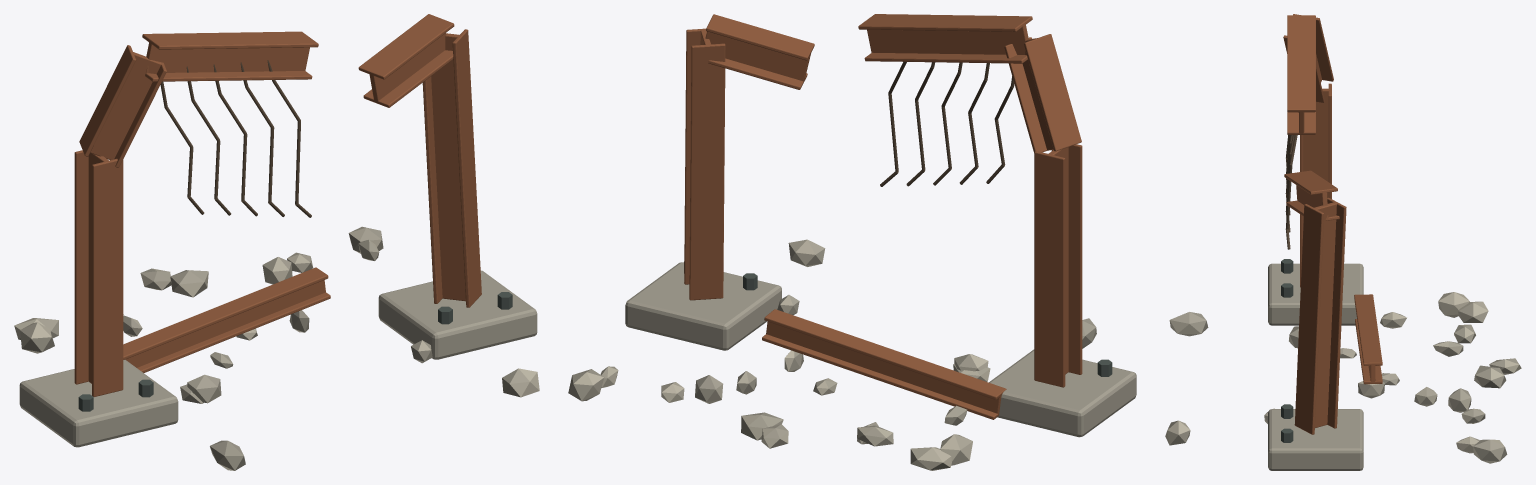
Rendered from Frame_Twisted_Cables.glb.
3 renders of one model, left to right at view 1: azimuth 30°, elevation 25°; view 2: azimuth 150°, elevation 25°; view 3: azimuth 270°, elevation 25°, orthographic. The views are drawn at different scales.
Visible parts, largest first — view 1: Anchor pad, Anchor pad.001, Left upright.002, Right upright, Right upright.002, Collapsed cross member, Left upright.001, Fallen diagonal.002, Collapsed cross member.002, Buckled left upper, Fallen diagonal, Broken right member.002 (+16 smaller); view 2: Right upright.001, Anchor pad.001, Left upright.001, Anchor pad, Collapsed cross member, Fallen diagonal.002, Left upright.002, Buckled left upper.002, Fallen diagonal, Collapsed cross member.002, Broken right member, Broken right member.002 (+14 smaller); view 3: Anchor pad.001, Right upright.002, Right upright, Anchor pad, Collapsed cross member.002, Right upright.001, Left upright, Fallen diagonal.002, Broken right member.002, Broken concrete aggregate.003, Buckled left upper.002, Broken concrete aggregate.017 (+9 smaller).
Part boxes in pixels (box(x1,y1,x2,y2)): Anchor pad: box(19, 359, 178, 447); Anchor pad.001: box(378, 270, 537, 359); Left upright.002: box(92, 158, 123, 396); Right upright: box(431, 33, 465, 301); Right upright.002: box(452, 29, 481, 307); Collapsed cross member: box(145, 42, 309, 73); Left upright.001: box(74, 150, 88, 384); Fallen diagonal.002: box(123, 267, 328, 359); Collapsed cross member.002: box(142, 31, 318, 49); Buckled left upper: box(90, 52, 162, 160); Fallen diagonal: box(125, 280, 325, 367); Broken right member.002: box(358, 14, 454, 79); Right upright.001: box(689, 43, 725, 300); Anchor pad.001: box(625, 262, 781, 350); Left upright.001: box(1034, 151, 1065, 387); Anchor pad: box(989, 349, 1136, 437); Collapsed cross member: box(867, 24, 1028, 54); Fallen diagonal.002: box(764, 309, 1006, 399); Left upright.002: box(1051, 144, 1082, 374); Buckled left upper.002: box(1023, 34, 1081, 151); Fallen diagonal: box(766, 321, 1001, 414); Collapsed cross member.002: box(858, 14, 1032, 31); Broken right member: box(705, 31, 810, 81); Broken right member.002: box(706, 14, 814, 60); Anchor pad.001: box(1268, 409, 1363, 470); Right upright.002: box(1294, 204, 1323, 434); Right upright: box(1314, 202, 1336, 427); Anchor pad: box(1268, 263, 1363, 325); Collapsed cross member.002: box(1287, 15, 1315, 112); Right upright.001: box(1327, 197, 1346, 428); Left upright: box(1303, 88, 1329, 222); Fallen diagonal.002: box(1354, 294, 1382, 365); Broken right member.002: box(1284, 170, 1337, 194); Broken concrete aggregate.003: box(1169, 312, 1208, 336); Buckled left upper.002: box(1293, 14, 1333, 81); Broken concrete aggregate.017: box(1473, 439, 1507, 463).
Size of the model in its own units: 4.65 by 3.67 by 3.73.
